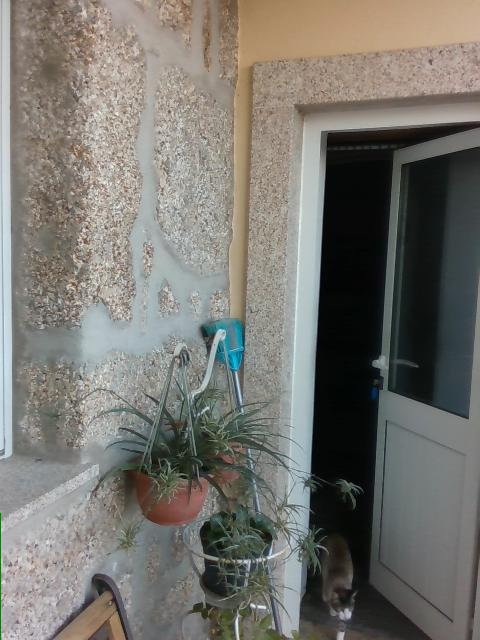semi_door: (280, 90, 478, 639)
